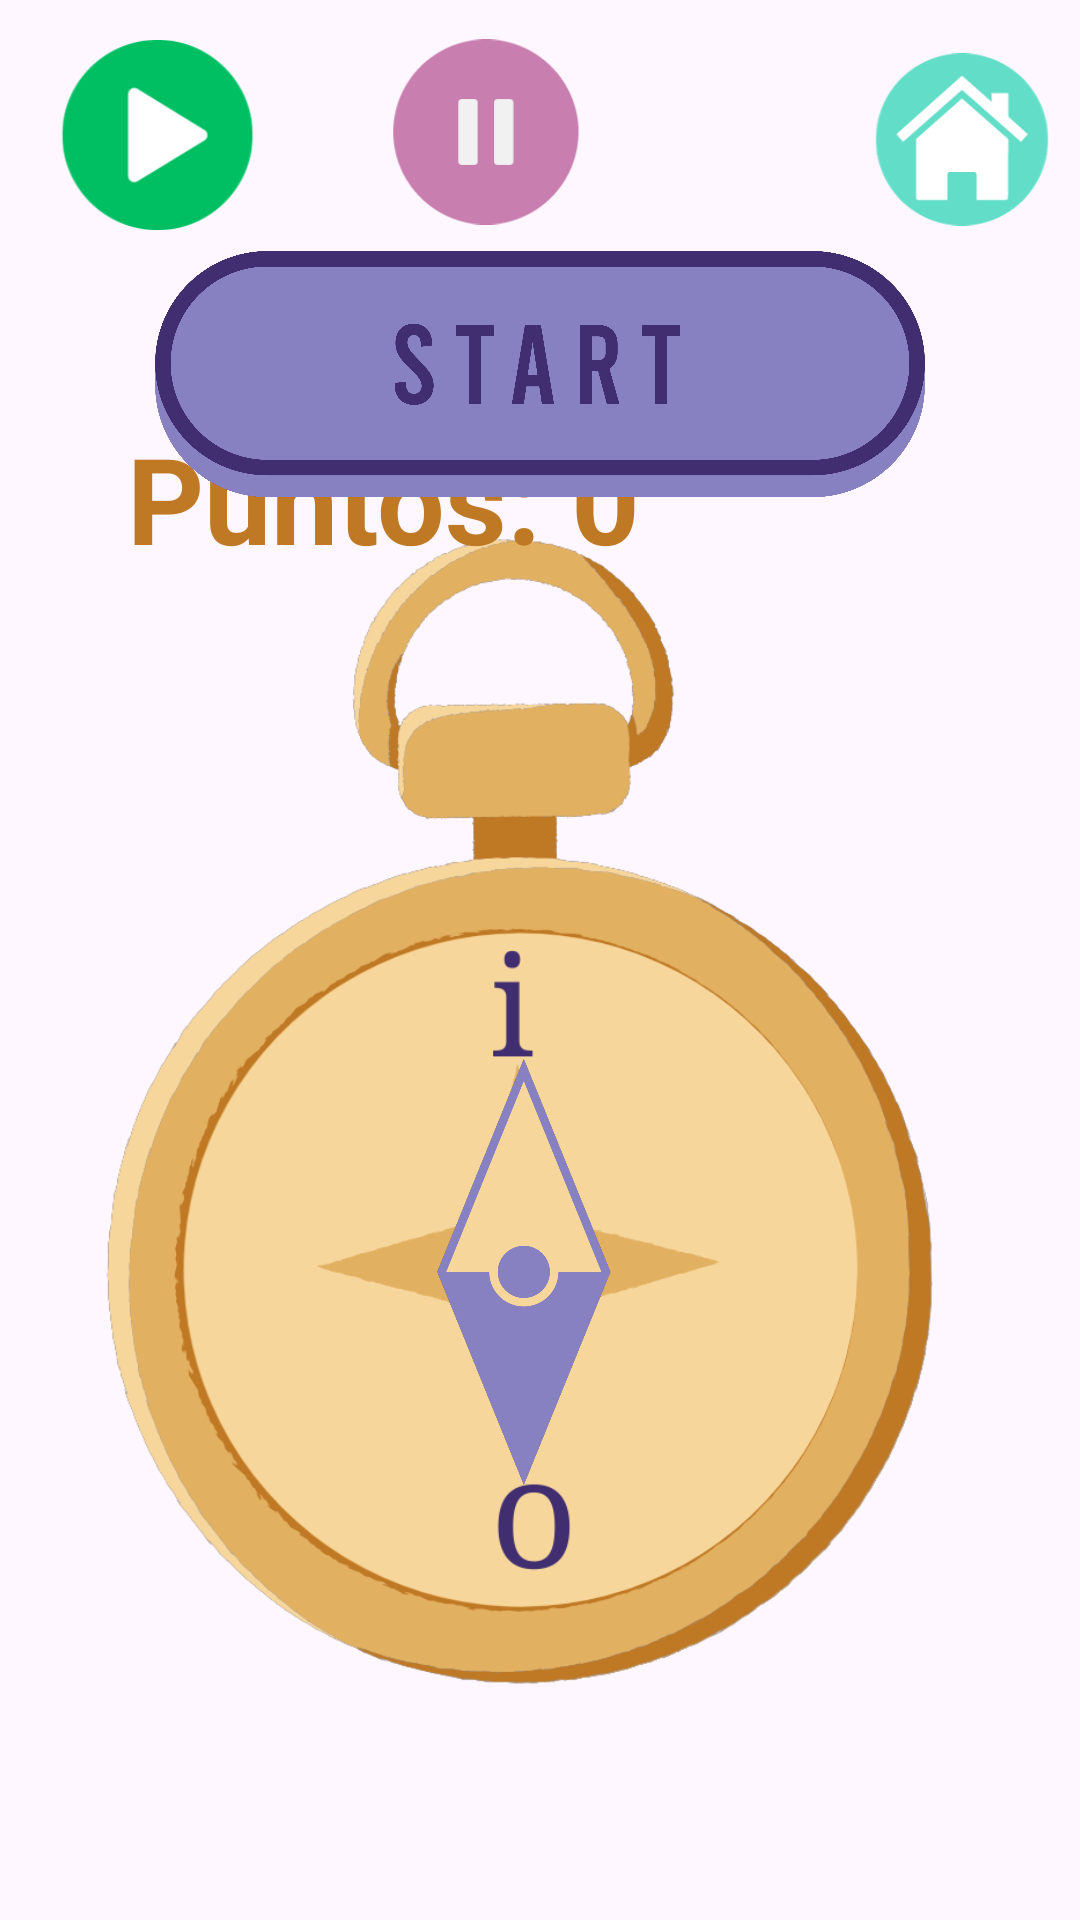

Screen size 1080x1920. Icon name, then its center in pixels as [x,y]:
home: [962,139]
parar: [486,132]
repro: [157,135]
